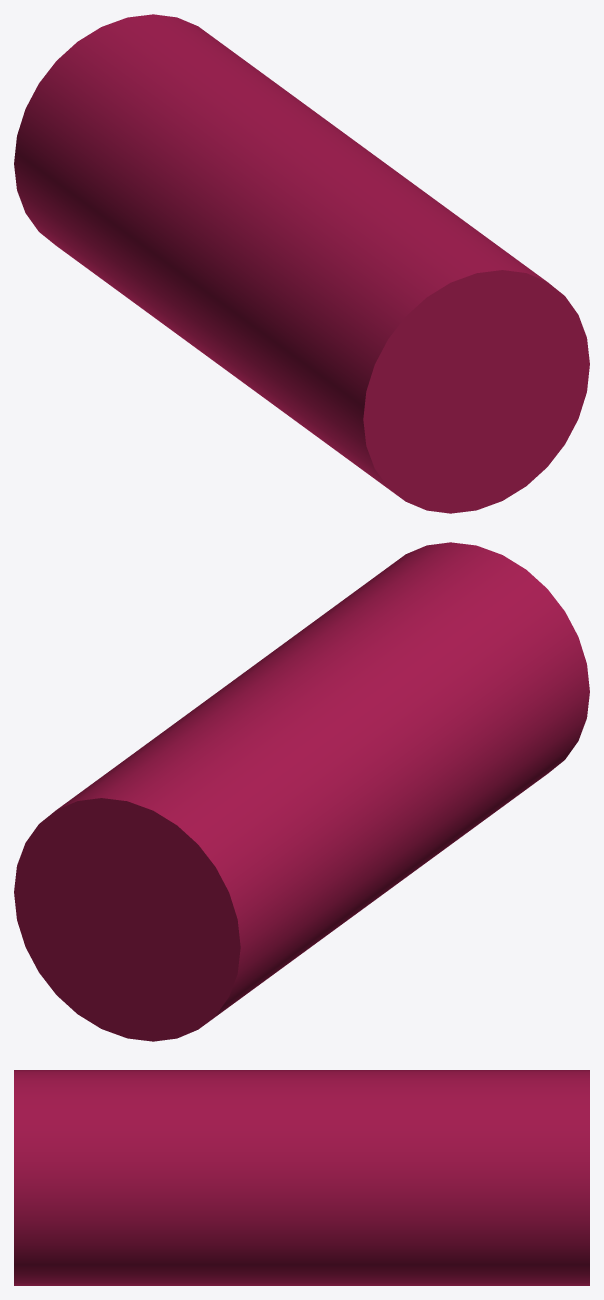
Rendered from GardenPlatform11.fbx.
3 renders of one model, top to bottom at view 1: azimuth 30°, elevation 25°; view 2: azimuth 150°, elevation 25°; view 3: azimuth 270°, elevation 25°, orthographic. The views are drawn at different scales.
Parts seen in each view (by area): view 1: GardenPlatform11; view 2: GardenPlatform11; view 3: GardenPlatform11.
Part boxes in pixels (x1,y1,x2,y2): GardenPlatform11: [14, 14, 589, 513]; GardenPlatform11: [14, 542, 589, 1041]; GardenPlatform11: [14, 1070, 589, 1285].
Size of the model in its own units: 254 by 254 by 678.
